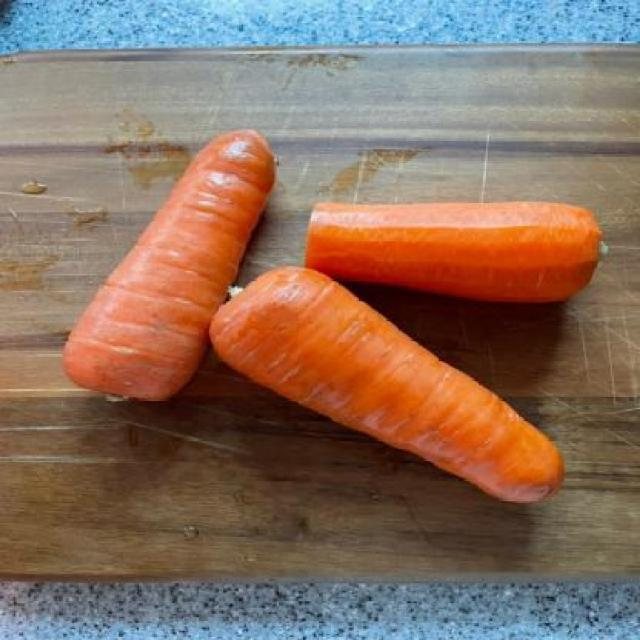carrot: (197, 261, 573, 512), (53, 123, 274, 419), (297, 200, 613, 308)
